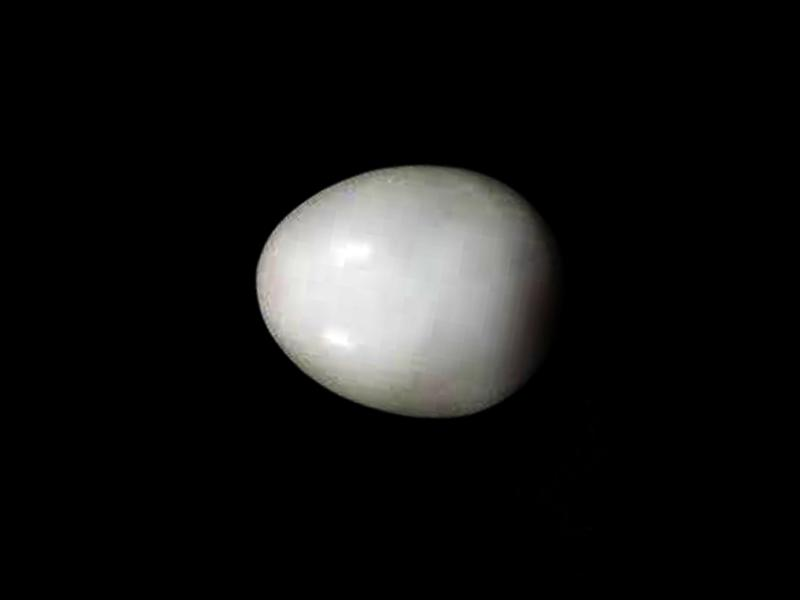Eggs: (238, 141, 586, 437)
